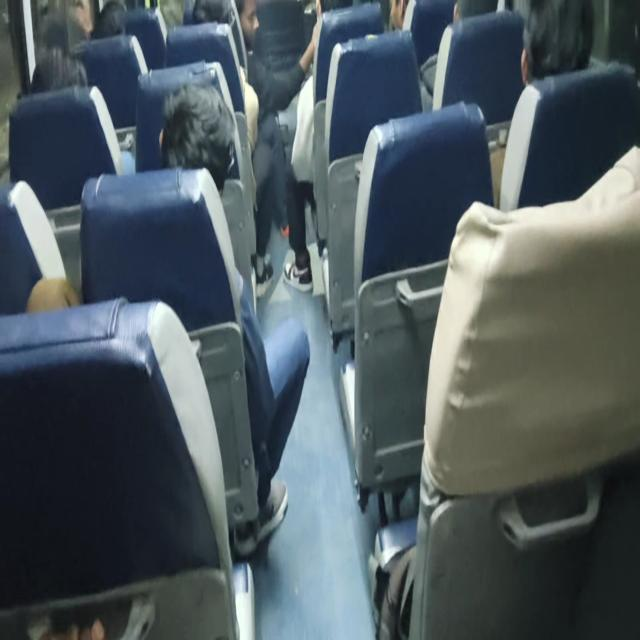person: (158, 80, 311, 555), (234, 0, 322, 296), (497, 0, 596, 211), (159, 80, 237, 190), (31, 18, 88, 92)
